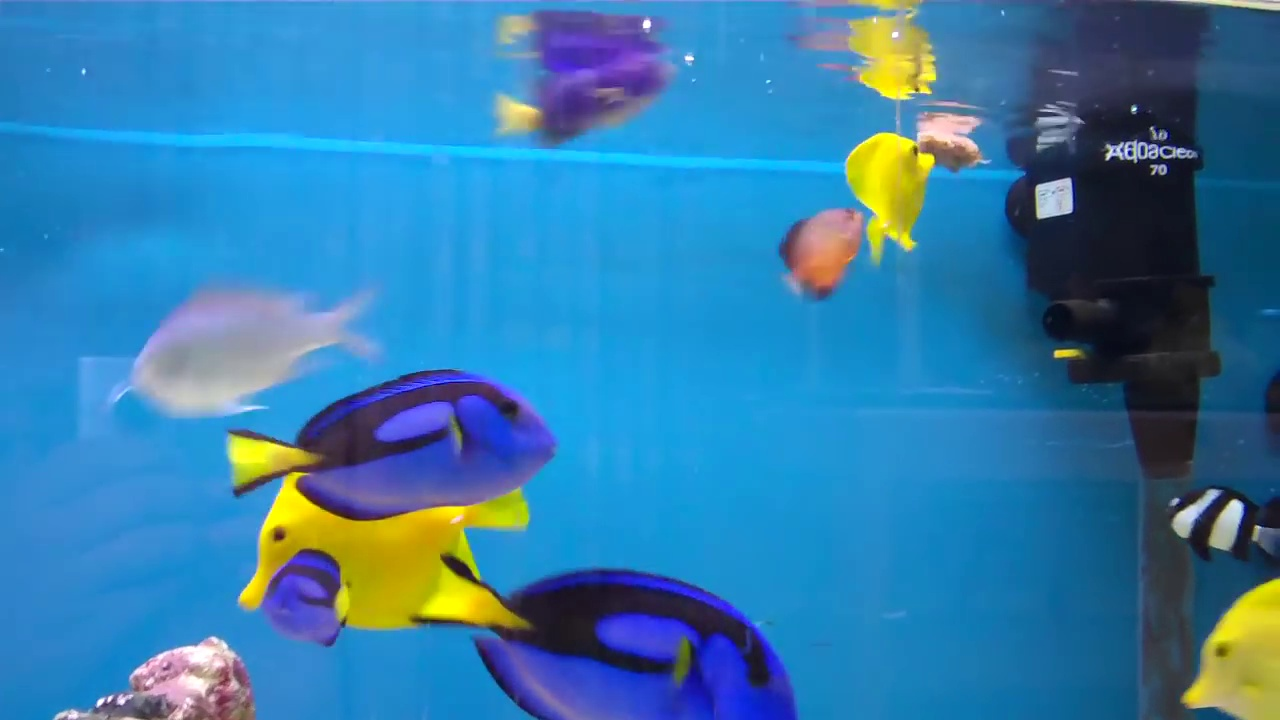blue tang surgeonfish: (449, 556, 805, 720), (208, 360, 548, 509), (246, 537, 371, 662)
saddle butterfly fish: (829, 114, 935, 266)
